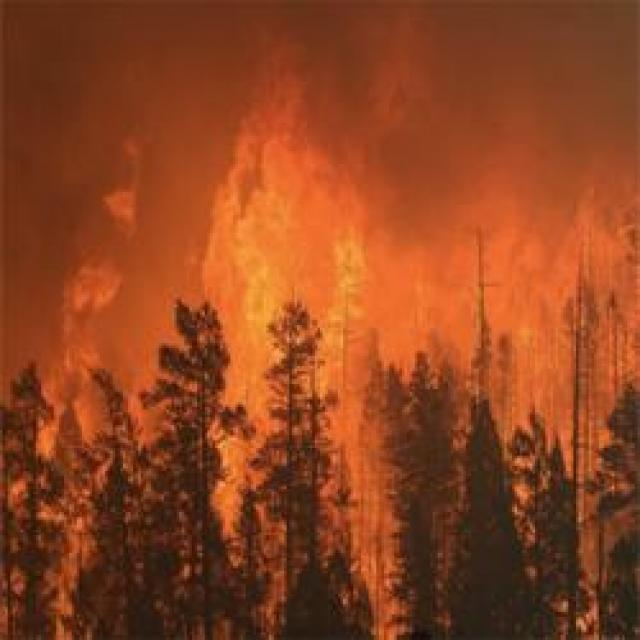smoke: (208, 67, 336, 330), (42, 303, 116, 452)
